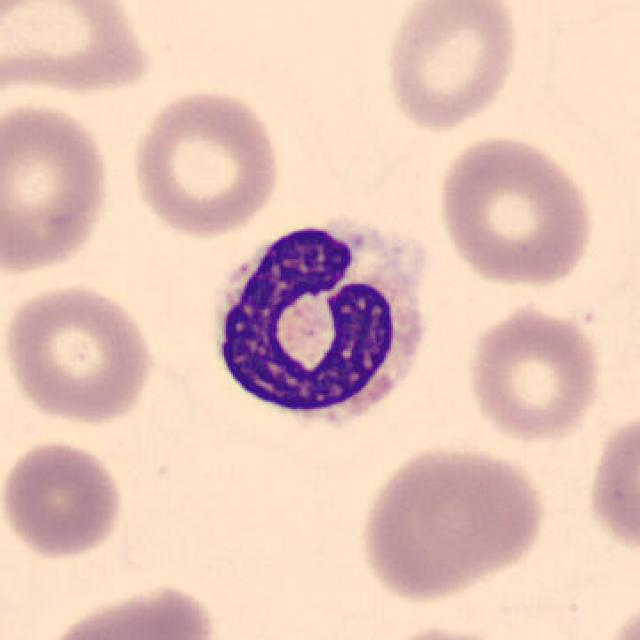Neutrophil: (205, 206, 438, 444)
RBC: (354, 441, 549, 605), (432, 131, 599, 289), (126, 84, 284, 240), (0, 278, 158, 428), (0, 97, 116, 280), (462, 302, 606, 446), (378, 0, 524, 134), (0, 436, 128, 564), (0, 0, 160, 100), (38, 580, 222, 640), (583, 402, 638, 568), (354, 622, 530, 640), (598, 589, 638, 640)
